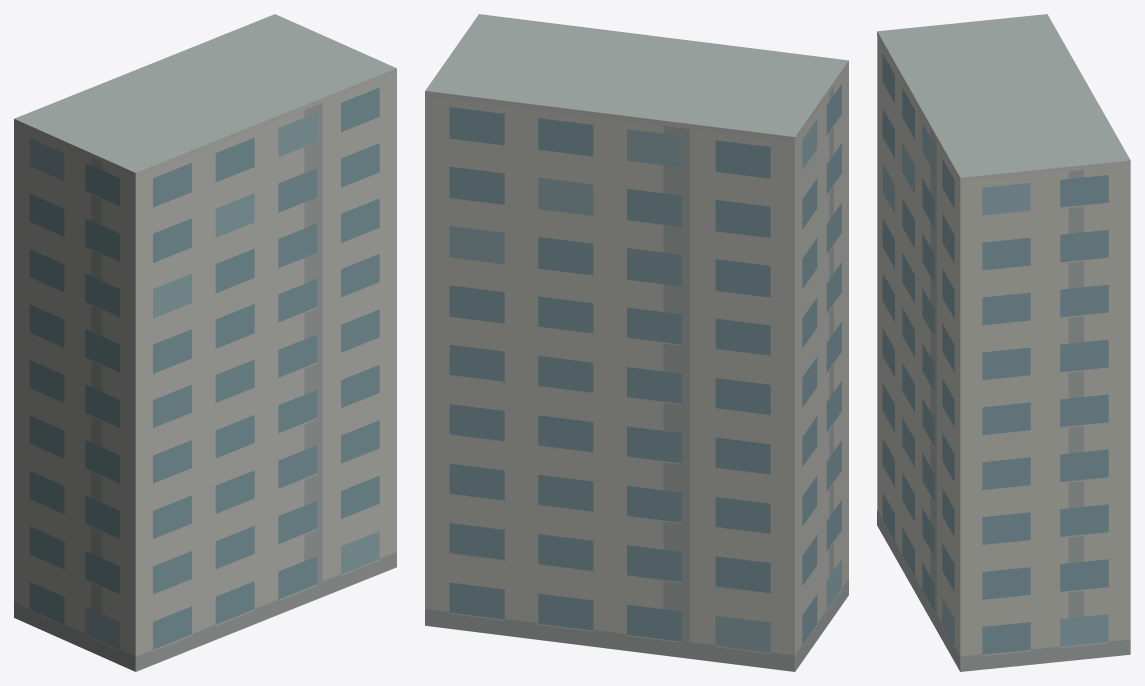
The model's file is residential-cebbbf8a-88bd-4268-b08e-c0b461a1e737.glb.
The picture shows the model from 3 angles, left to right: view 1: azimuth 30°, elevation 25°; view 2: azimuth 150°, elevation 25°; view 3: azimuth 270°, elevation 25°; orthographic projection. The views are drawn at different scales.
Parts seen in each view (by area): view 1: residential-cebbbf8a-88bd-4268-b08e-c0b461a1e737.tmp; view 2: residential-cebbbf8a-88bd-4268-b08e-c0b461a1e737.tmp; view 3: residential-cebbbf8a-88bd-4268-b08e-c0b461a1e737.tmp.
Boxes of the visible parts, x1,y1,x2,y2 form: residential-cebbbf8a-88bd-4268-b08e-c0b461a1e737.tmp: [14, 14, 396, 671]; residential-cebbbf8a-88bd-4268-b08e-c0b461a1e737.tmp: [425, 14, 848, 671]; residential-cebbbf8a-88bd-4268-b08e-c0b461a1e737.tmp: [877, 14, 1130, 671].
Size of the model in its own units: 18.49 by 26 by 12.1.
